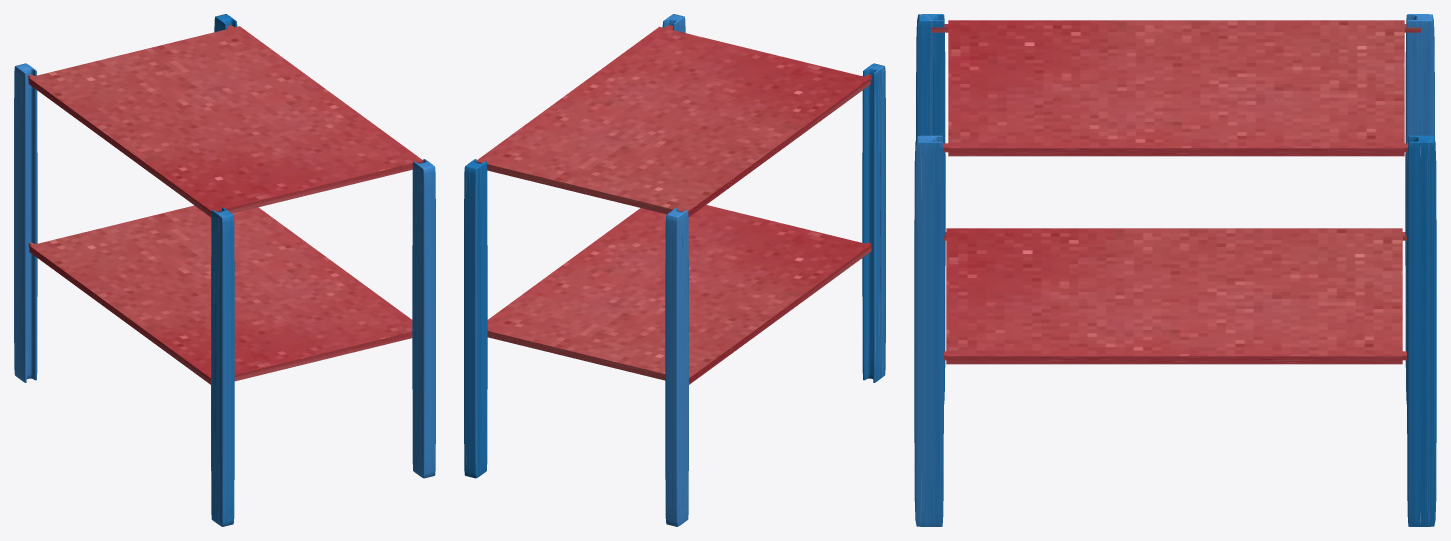
Rendered from ShelfUpBit.fbx.
3 views of the same model, side by side, from view 1: azimuth 30°, elevation 25°; view 2: azimuth 150°, elevation 25°; view 3: azimuth 270°, elevation 25° (orthographic). The views are drawn at different scales.
Parts seen in each view (by area): view 1: pasted__pCube6, pasted__pCube5, pCube7, pCube1, pCube8; view 2: pasted__pCube6, pasted__pCube5, pCube8, pCube9, pCube7; view 3: pasted__pCube6, pasted__pCube5, pCube1, pCube9, pCube7, pCube8.
Part boxes in pixels (<box>): pasted__pCube6: <box>28,25,423,217</box>; pasted__pCube5: <box>28,205,412,384</box>; pCube7: <box>211,207,234,526</box>; pCube1: <box>412,159,435,478</box>; pCube8: <box>14,63,37,382</box>; pasted__pCube6: <box>476,25,871,217</box>; pasted__pCube5: <box>487,205,871,384</box>; pCube8: <box>665,207,688,526</box>; pCube9: <box>464,159,487,478</box>; pCube7: <box>862,63,885,382</box>; pasted__pCube6: <box>932,20,1420,156</box>; pasted__pCube5: <box>944,228,1406,364</box>; pCube1: <box>914,135,943,526</box>; pCube9: <box>1407,135,1436,526</box>; pCube7: <box>916,14,945,403</box>; pCube8: <box>1405,14,1434,403</box>.
Size of the model in its own units: 6.09 by 8.41 by 10.34.
2 materials, 2 textured.
